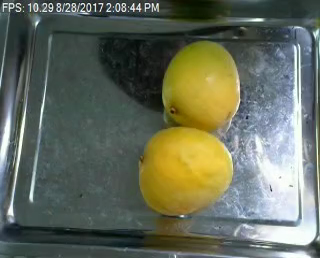Mango: (136, 127, 233, 216), (162, 40, 241, 128)
